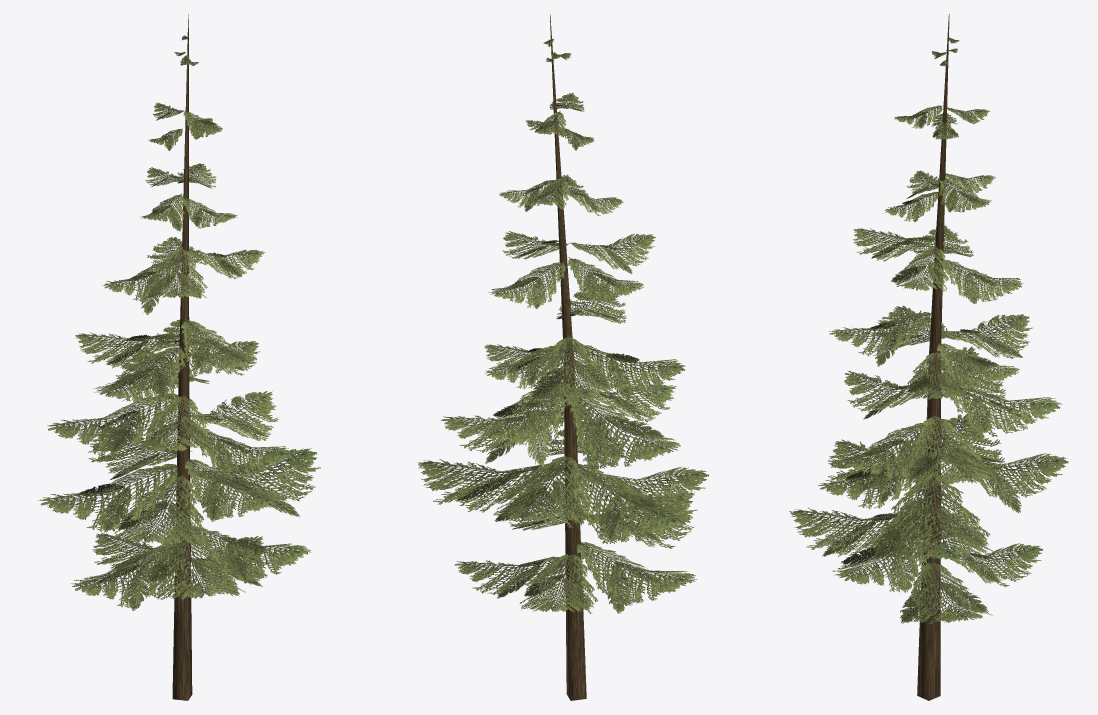
Rendered from Larch.glb.
The picture shows the model from 3 angles, left to right: view 1: azimuth 30°, elevation 25°; view 2: azimuth 150°, elevation 25°; view 3: azimuth 270°, elevation 25°; orthographic projection. The views are drawn at different scales.
Parts seen in each view (by area): view 1: Larch; view 2: Larch; view 3: Larch.
Boxes of the visible parts, bbox=[...] form: Larch: bbox=[38, 14, 320, 700]; Larch: bbox=[417, 14, 708, 700]; Larch: bbox=[789, 14, 1068, 700].
Bounding box in the file's own units: 0.4589 × 1.01 × 0.4281.
1 material, 1 textured.
